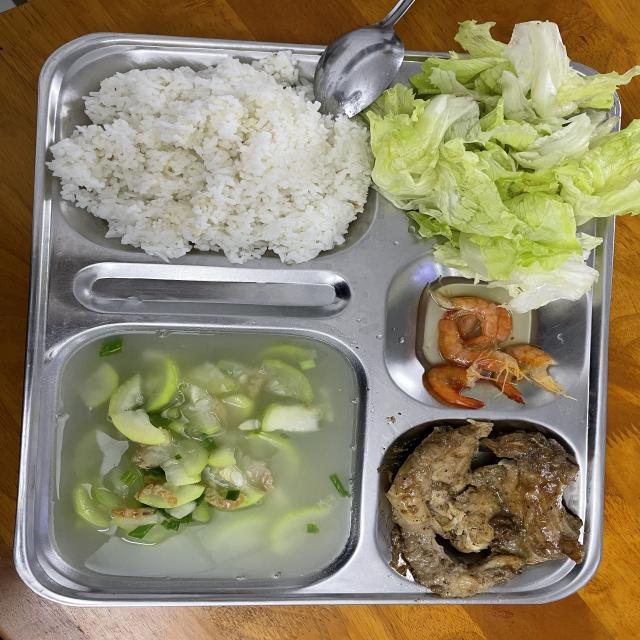bap cai luoc: (364, 21, 640, 310)
canh bau: (49, 330, 360, 580)
com: (48, 51, 370, 263)
thit chien: (386, 420, 583, 597)
tom: (424, 296, 564, 409)
